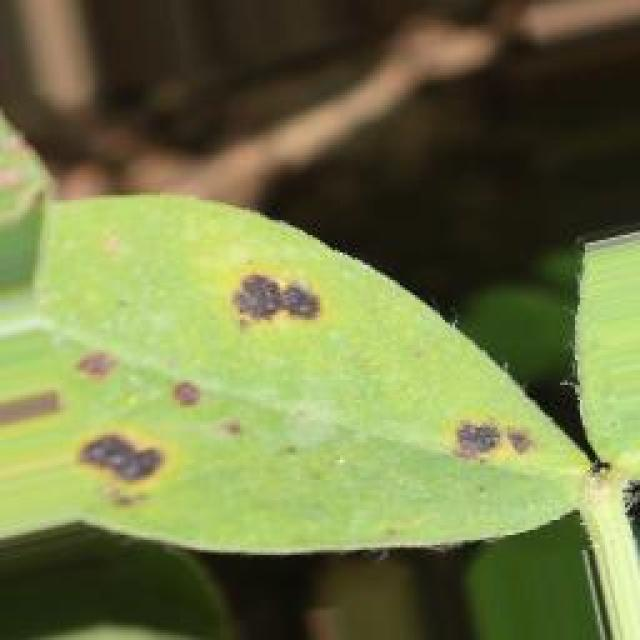Yellowish: (6, 167, 546, 555)
